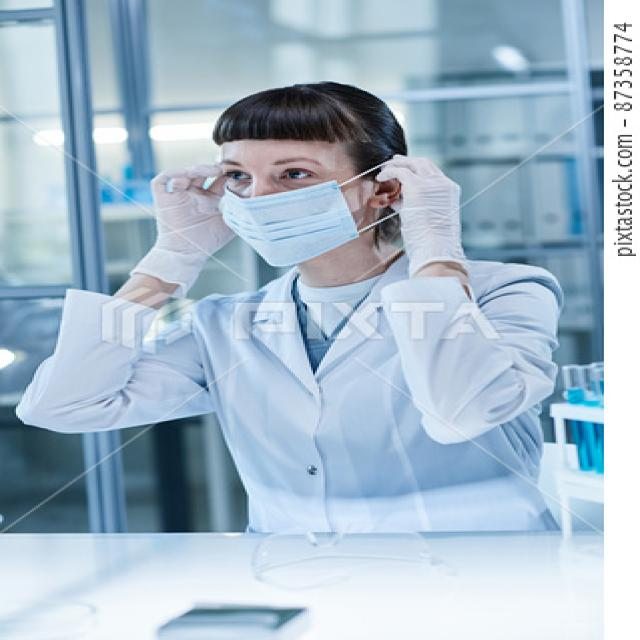Gloves: (120, 155, 252, 303), (369, 138, 486, 292)
Mask: (191, 170, 403, 268)
